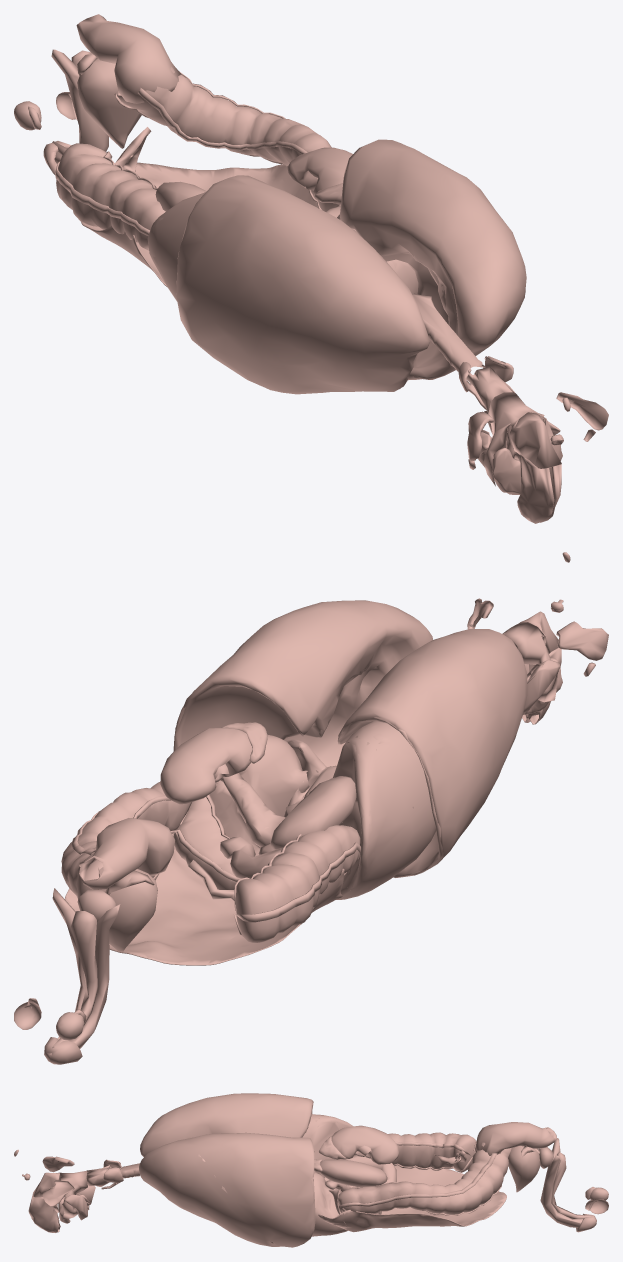
The model's file is overview__organs.d28b7b0539.glb.
The picture shows the model from 3 angles, top to bottom: view 1: azimuth 30°, elevation 25°; view 2: azimuth 150°, elevation 25°; view 3: azimuth 270°, elevation 25°; orthographic projection. The views are drawn at different scales.
Parts seen in each view (by area): view 1: Z01734, Z00438, Z00208, Z02097, Z00821, Z02583, Z01212, Z01443, Z01044, Z02462, Z01465, Z01602 (+9 smaller); view 2: Z01734, Z01212, Z00821, Z00208, Z01044, Z02097, Z00438, Z01045, Z02162, Z02467, Z00353, Z02583 (+13 smaller); view 3: Z01734, Z00438, Z00821, Z00208, Z02097, Z01045, Z01044, Z02162, Z02583, Z00353, Z01212, Z01443 (+17 smaller).
Boxes of the visible parts, x1,y1,x2,y2 form: Z01734: [176, 139, 526, 394]; Z00438: [117, 66, 338, 211]; Z00208: [56, 143, 165, 250]; Z02097: [76, 14, 181, 103]; Z00821: [81, 162, 318, 286]; Z02583: [77, 58, 141, 148]; Z01212: [147, 192, 418, 301]; Z01443: [515, 452, 561, 523]; Z01044: [287, 147, 352, 194]; Z02462: [412, 293, 482, 371]; Z01465: [510, 412, 561, 468]; Z01602: [483, 392, 553, 486]; Z01734: [175, 600, 527, 877]; Z01212: [286, 721, 436, 899]; Z00821: [65, 833, 344, 965]; Z00208: [235, 825, 360, 942]; Z01044: [160, 727, 252, 804]; Z02097: [79, 818, 174, 889]; Z00438: [61, 782, 191, 897]; Z01045: [270, 776, 356, 849]; Z02162: [239, 734, 309, 816]; Z02467: [173, 797, 346, 889]; Z00353: [52, 888, 120, 1048]; Z02583: [76, 867, 157, 952]; Z01734: [139, 1093, 314, 1247]; Z00438: [338, 1142, 511, 1214]; Z00821: [318, 1165, 506, 1232]; Z00208: [354, 1132, 476, 1170]; Z02097: [476, 1122, 556, 1155]; Z01045: [331, 1125, 398, 1164]; Z01044: [320, 1159, 387, 1186]; Z02162: [312, 1172, 347, 1236]; Z02583: [508, 1146, 539, 1192]; Z00353: [540, 1138, 582, 1227]; Z01212: [303, 1114, 352, 1177]; Z01443: [28, 1194, 60, 1232].
Bounding box in the file's own units: 255 × 187 × 865.
